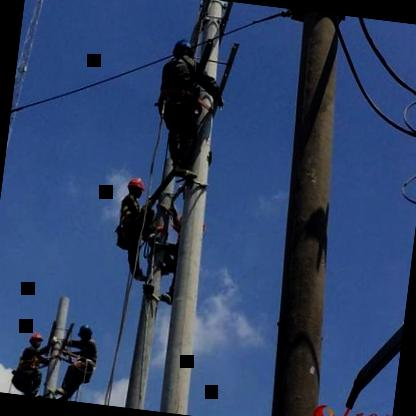helmet: (122, 168, 146, 204), (168, 34, 196, 64), (74, 320, 97, 348), (25, 329, 46, 353)
